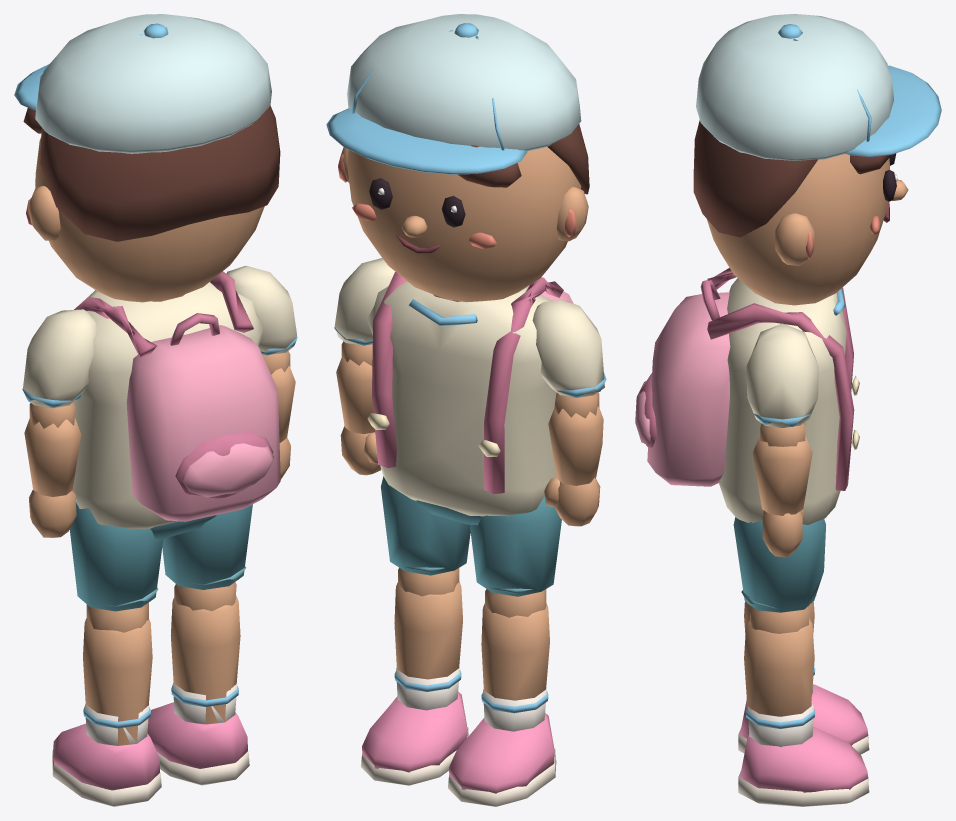
File: owner_kid.glb
3 renders of one model, left to right at view 1: azimuth 30°, elevation 25°; view 2: azimuth 150°, elevation 25°; view 3: azimuth 270°, elevation 25°, orthographic.
Visible parts, largest first — view 1: Body, Cap, Hair, Knee_L, Knee_R, Head, Leg_L, Leg_R, Arm_L, Forearm_L, Arm_R, Forearm_R; view 2: Body, Cap, Head, Knee_L, Knee_R, Leg_L, Leg_R, Arm_L, Forearm_L, Arm_R, Forearm_R, Hair; view 3: Body, Cap, Head, Knee_R, Hair, Leg_R, Arm_R, Forearm_R, Knee_L.
Boxes of the visible parts, x1=… form: Body: x1=72, y1=271, x2=280, y2=538; Cap: x1=14, y1=14, x2=271, y2=153; Hair: x1=23, y1=106, x2=280, y2=241; Knee_L: x1=52, y1=618, x2=161, y2=806; Knee_R: x1=147, y1=595, x2=249, y2=785; Head: x1=26, y1=137, x2=264, y2=302; Leg_L: x1=69, y1=502, x2=163, y2=632; Leg_R: x1=162, y1=504, x2=252, y2=611; Arm_L: x1=22, y1=309, x2=97, y2=428; Forearm_L: x1=24, y1=416, x2=81, y2=537; Arm_R: x1=226, y1=266, x2=297, y2=374; Forearm_R: x1=271, y1=365, x2=295, y2=479; Body: x1=367, y1=272, x2=573, y2=525; Cap: x1=326, y1=14, x2=581, y2=174; Head: x1=338, y1=147, x2=588, y2=302; Knee_L: x1=448, y1=603, x2=556, y2=806; Knee_R: x1=361, y1=582, x2=468, y2=785; Leg_L: x1=470, y1=496, x2=561, y2=617; Leg_R: x1=381, y1=476, x2=470, y2=596; Arm_L: x1=532, y1=300, x2=606, y2=418; Forearm_L: x1=544, y1=406, x2=603, y2=526; Arm_R: x1=334, y1=258, x2=395, y2=365; Forearm_R: x1=336, y1=355, x2=381, y2=475; Hair: x1=457, y1=124, x2=589, y2=194; Body: x1=635, y1=268, x2=859, y2=524; Cap: x1=696, y1=14, x2=941, y2=160; Head: x1=707, y1=153, x2=908, y2=305; Knee_R: x1=738, y1=616, x2=869, y2=806; Hair: x1=693, y1=120, x2=891, y2=237; Leg_R: x1=733, y1=517, x2=825, y2=633; Arm_R: x1=746, y1=323, x2=818, y2=446; Forearm_R: x1=752, y1=435, x2=812, y2=557; Knee_L: x1=738, y1=601, x2=869, y2=754.
Size of the model in its own units: 0.4302 by 1.16 by 0.4335.
20 materials, 20 textured.
